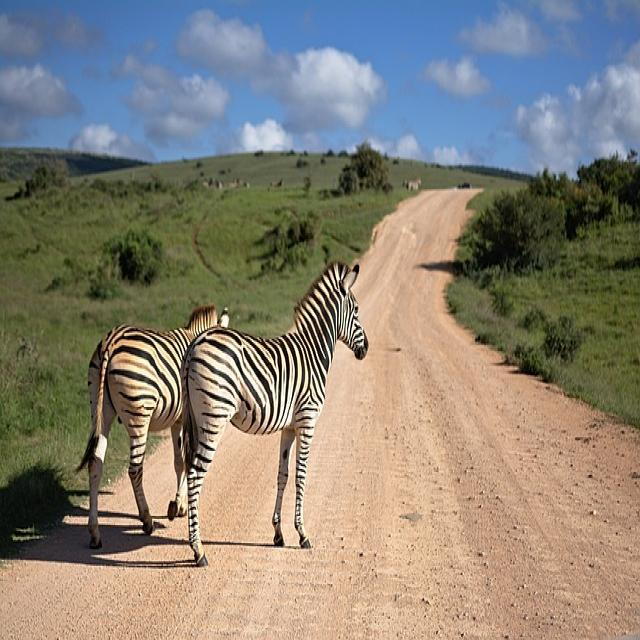Herbivorous: (177, 262, 369, 566), (79, 325, 202, 549)
